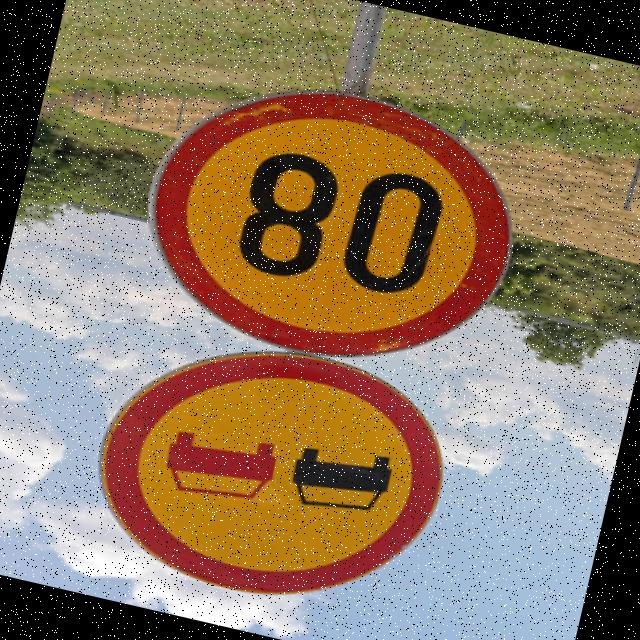speed_limit_80: (115, 54, 548, 400)
